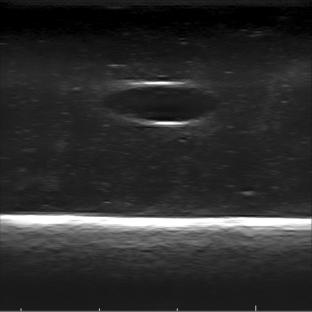vessel: (102, 81, 219, 126)
